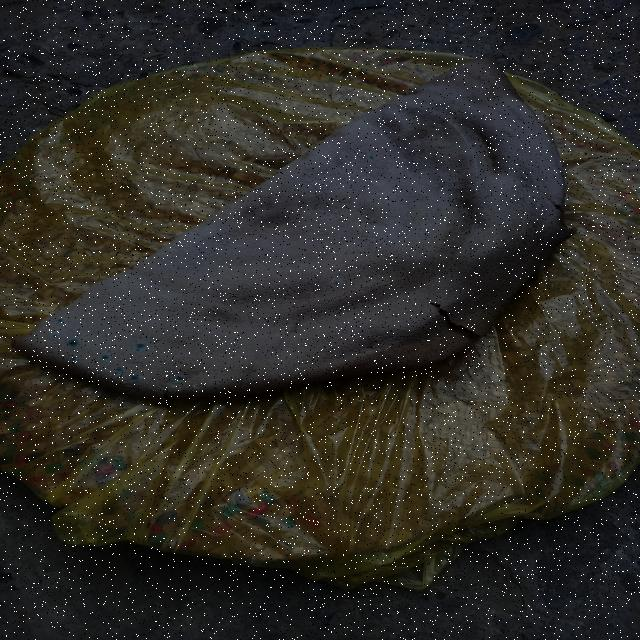injera_mold: (95, 373, 126, 388), (170, 384, 184, 394), (189, 383, 201, 393), (67, 338, 79, 346), (380, 344, 392, 352), (171, 376, 184, 383), (100, 353, 110, 360), (129, 375, 141, 380), (332, 279, 342, 285), (135, 343, 146, 348), (55, 318, 64, 323), (115, 367, 124, 371), (51, 334, 58, 338), (76, 327, 82, 331), (70, 357, 77, 360), (369, 156, 374, 160), (136, 348, 140, 352), (389, 337, 394, 340), (44, 348, 48, 351), (373, 345, 376, 348), (378, 336, 382, 338), (396, 340, 400, 342), (142, 358, 144, 361), (476, 86, 479, 88), (44, 352, 46, 354), (40, 351, 42, 353), (484, 88, 486, 90), (487, 86, 489, 88), (469, 84, 470, 86), (472, 86, 474, 87), (480, 84, 482, 85), (481, 77, 483, 78)
